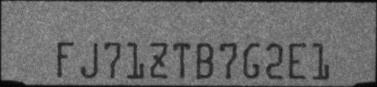1: (311, 41, 330, 80), (125, 42, 144, 79)
2: (265, 42, 284, 79)
7: (218, 42, 237, 79), (103, 41, 121, 79)
B: (194, 41, 213, 79)
E: (287, 41, 306, 78)
F: (56, 40, 76, 77)
G: (241, 42, 259, 79)
J: (79, 42, 98, 77)
T: (172, 42, 192, 79)
Z: (150, 41, 169, 79)
